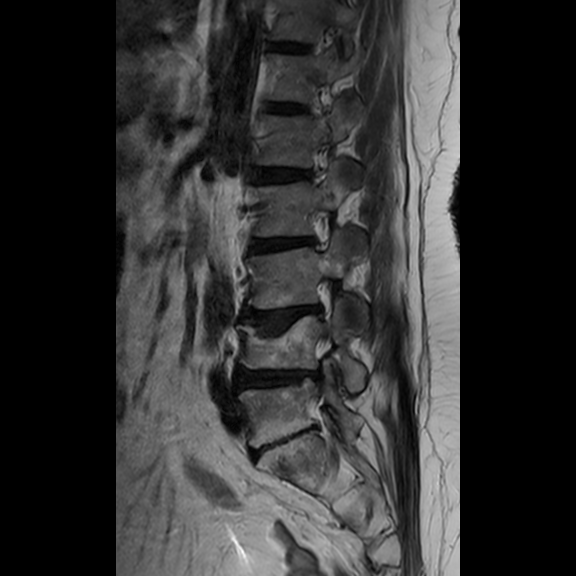LFS0: (303, 265, 346, 326), (301, 200, 340, 262)
